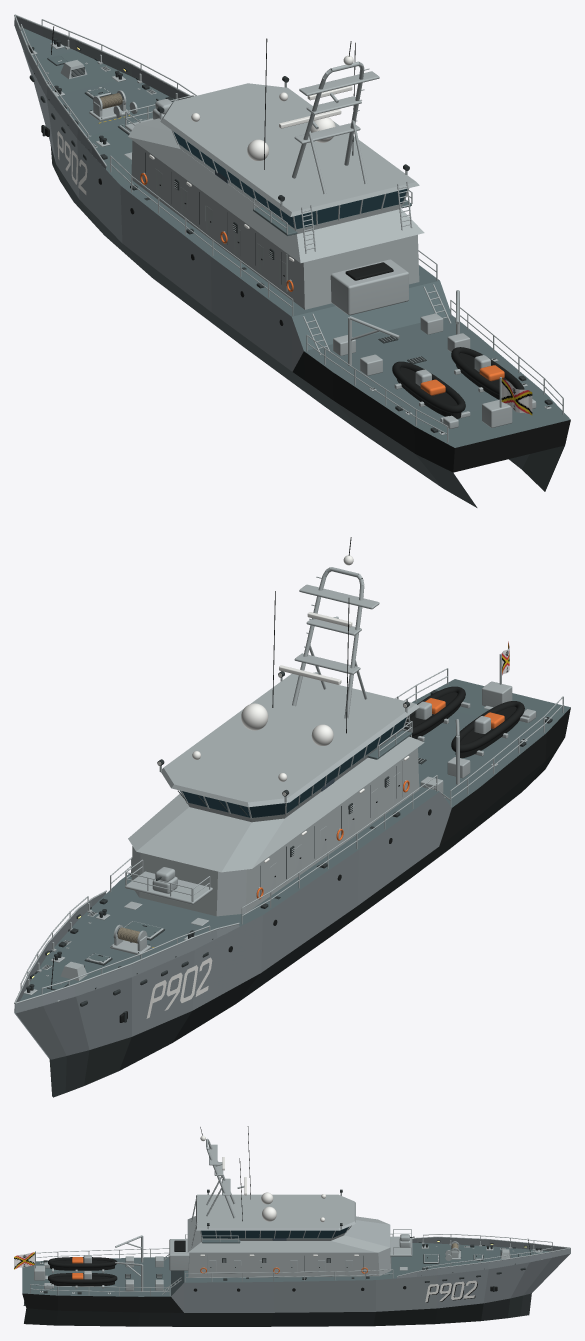
Rendered from pollux.glb.
The picture shows the model from 3 angles, top to bottom: view 1: azimuth 30°, elevation 25°; view 2: azimuth 150°, elevation 25°; view 3: azimuth 270°, elevation 25°; orthographic projection. The views are drawn at different scales.
Visible parts, largest first — view 1: Light superstructure, Non-slip deck, Bridge roof and mast, Naval grey, Black, Boot stripe, Bridge glazing and mullions, Rescue equipment, Belgian Navy ensign, Markings; view 2: Light superstructure, Naval grey, Bridge roof and mast, Non-slip deck, Boot stripe, Black, Bridge glazing and mullions, Markings; view 3: Light superstructure, Naval grey, Boot stripe, Non-slip deck, Bridge roof and mast, Black, Bridge glazing and mullions, Markings, Belgian Navy ensign.
Part boxes in pixels (left/top/right/bottom): Light superstructure: left=14, top=14, right=563, bottom=442; Non-slip deck: left=20, top=26, right=570, bottom=447; Bridge roof and mast: left=51, top=26, right=419, bottom=216; Naval grey: left=14, top=16, right=303, bottom=371; Black: left=41, top=125, right=570, bottom=472; Boot stripe: left=28, top=38, right=564, bottom=507; Bridge glazing and mullions: left=171, top=130, right=409, bottom=230; Rescue equipment: left=140, top=173, right=504, bottom=395; Belgian Navy ensign: left=501, top=379, right=532, bottom=415; Markings: left=57, top=131, right=294, bottom=261; Light superstructure: left=14, top=654, right=563, bottom=1004; Naval grey: left=14, top=791, right=451, bottom=1059; Bridge roof and mast: left=51, top=537, right=419, bottom=989; Non-slip deck: left=14, top=679, right=570, bottom=1013; Boot stripe: left=26, top=690, right=563, bottom=1097; Black: left=119, top=686, right=570, bottom=1022; Bridge glazing and mullions: left=178, top=716, right=407, bottom=819; Markings: left=146, top=756, right=409, bottom=1018; Light superstructure: left=30, top=1196, right=570, bottom=1296; Naval grey: left=171, top=1237, right=570, bottom=1312; Boot stripe: left=23, top=1236, right=541, bottom=1326; Non-slip deck: left=22, top=1239, right=550, bottom=1296; Bridge roof and mast: left=196, top=1126, right=530, bottom=1254; Black: left=22, top=1240, right=497, bottom=1312; Bridge glazing and mullions: left=200, top=1225, right=351, bottom=1238; Markings: left=200, top=1254, right=477, bottom=1302; Belgian Navy ensign: left=14, top=1252, right=34, bottom=1269.
Bounding box in the file's own units: 9.23 × 20.25 × 54.31.
23 materials, 1 textured.
